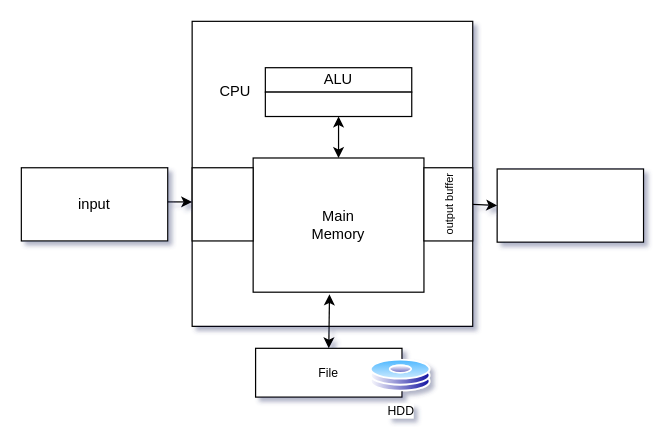
Some shapes in this 672 by 448 pixel diagram are drawn without their labels. Each missing label, with the centre of its shape:
CU: point 338,104
input buffer: point 222,204
output: point 570,205
